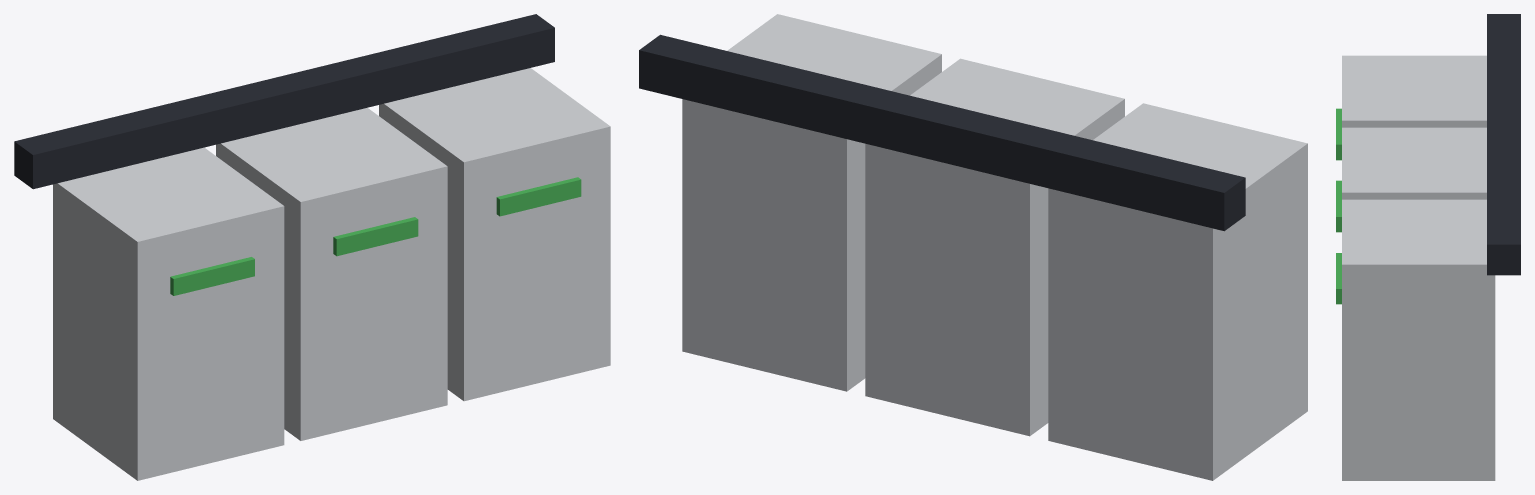
File: lunar-battery-bank.glb
3 views of the same model, side by side, from view 1: azimuth 30°, elevation 25°; view 2: azimuth 150°, elevation 25°; view 3: azimuth 270°, elevation 25° (orthographic). The views are drawn at different scales.
Visible parts, largest first — view 1: battery_bank; view 2: battery_bank; view 3: battery_bank.
Boxes of the visible parts, <box> form: battery_bank: <box>14,14,610,480</box>; battery_bank: <box>639,14,1307,480</box>; battery_bank: <box>1336,14,1520,480</box>.
Bounding box in the file's own units: 3.2 × 1.6 × 1.09.
